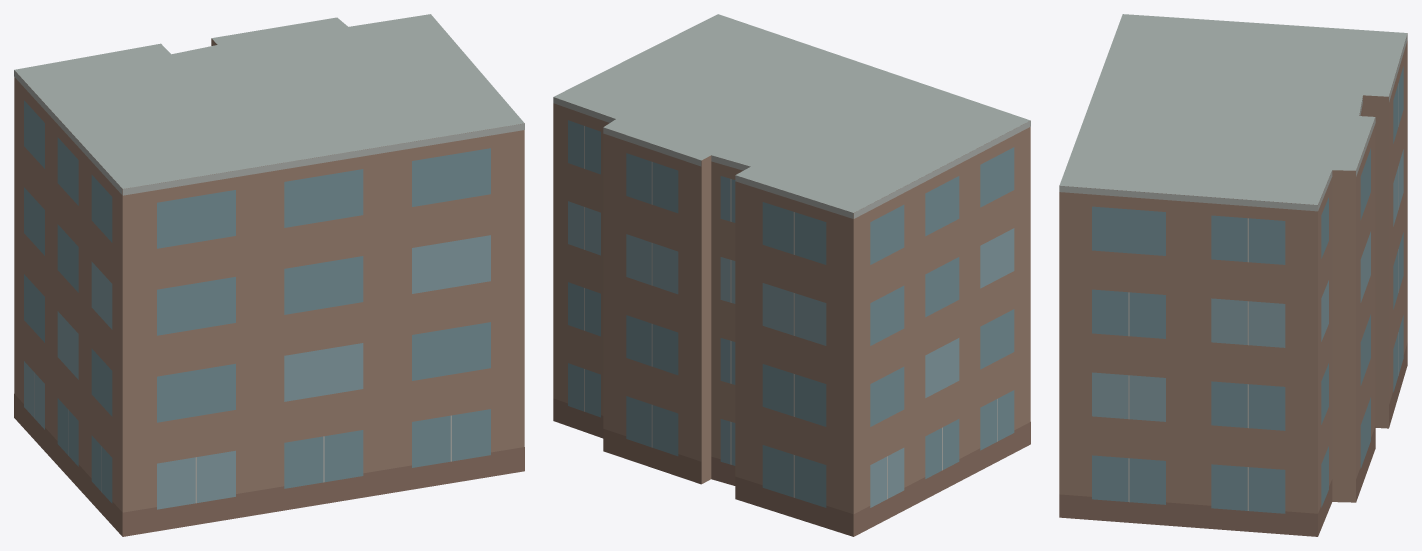
File: survey-upis-33007865.glb
The picture shows the model from 3 angles, left to right: view 1: azimuth 30°, elevation 25°; view 2: azimuth 150°, elevation 25°; view 3: azimuth 270°, elevation 25°; orthographic projection. The views are drawn at different scales.
Parts seen in each view (by area): view 1: survey-upis-33007865.tmp; view 2: survey-upis-33007865.tmp; view 3: survey-upis-33007865.tmp.
Boxes of the visible parts, x1,y1,x2,y2 form: survey-upis-33007865.tmp: (14,14,524,536); survey-upis-33007865.tmp: (553,14,1030,536); survey-upis-33007865.tmp: (1059,14,1407,536).
Size of the model in its own units: 15.82 by 12.8 by 12.19.
